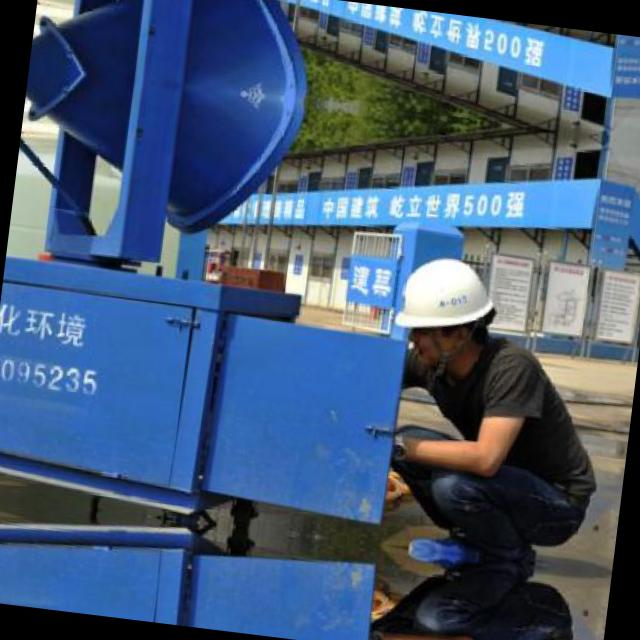helmet: (374, 235, 504, 385)
